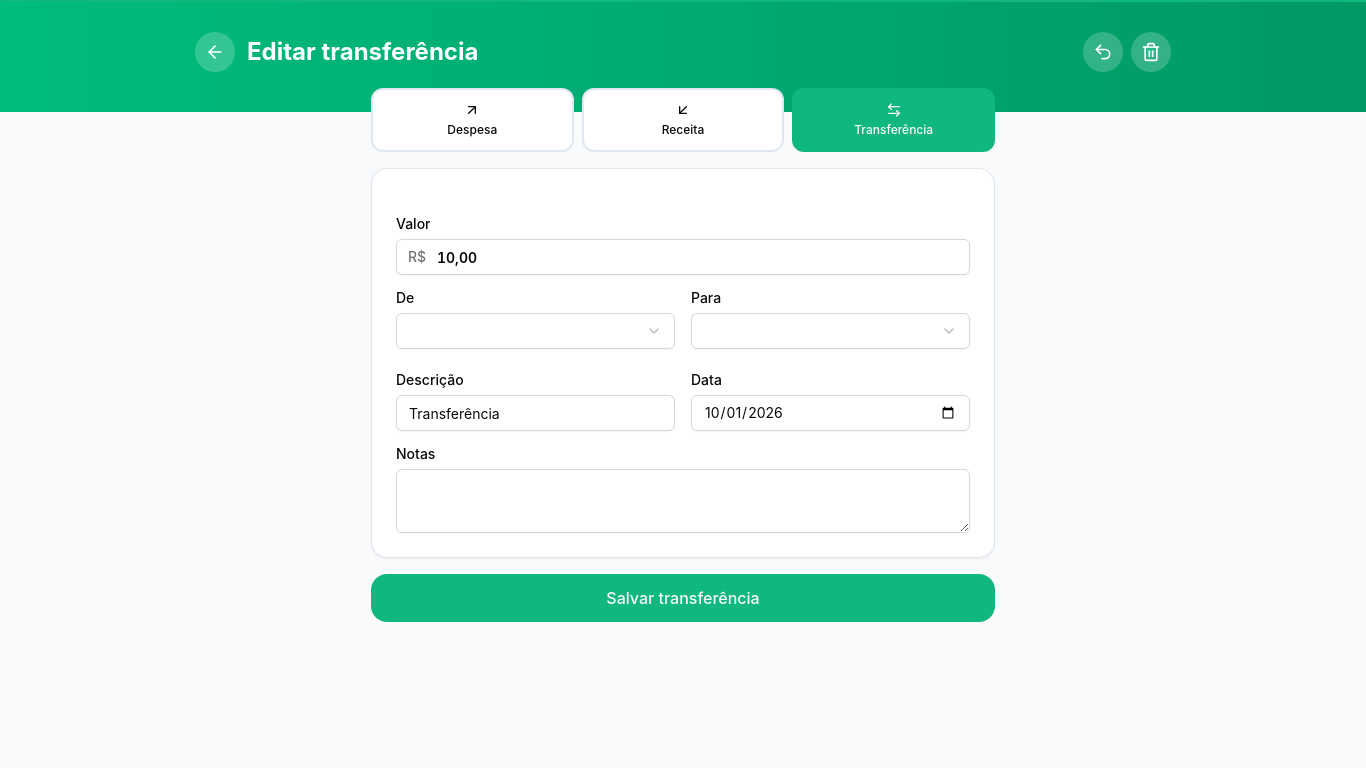
Test: TransactionFormPage › transferência cuja deletes_only_this_leg vem true do backend: excluir avisa que só esta perna some
Click the button named "Excluir". click: {"x": 1151, "y": 52}
box: [1131,32,1171,72]
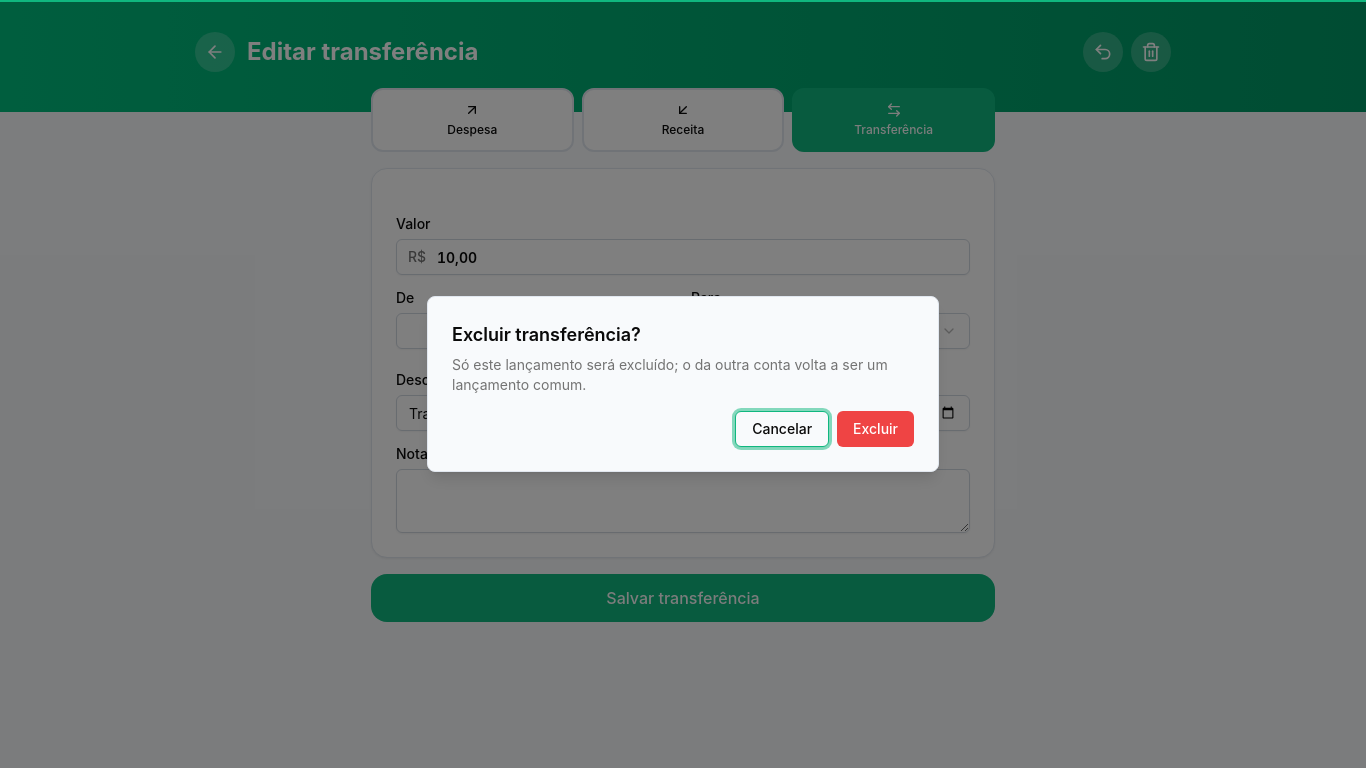
Now the text "Só este lançamento será excluído; o da outra conta volta a ser um lançamento comum." is shown, box [452,356,888,393]
